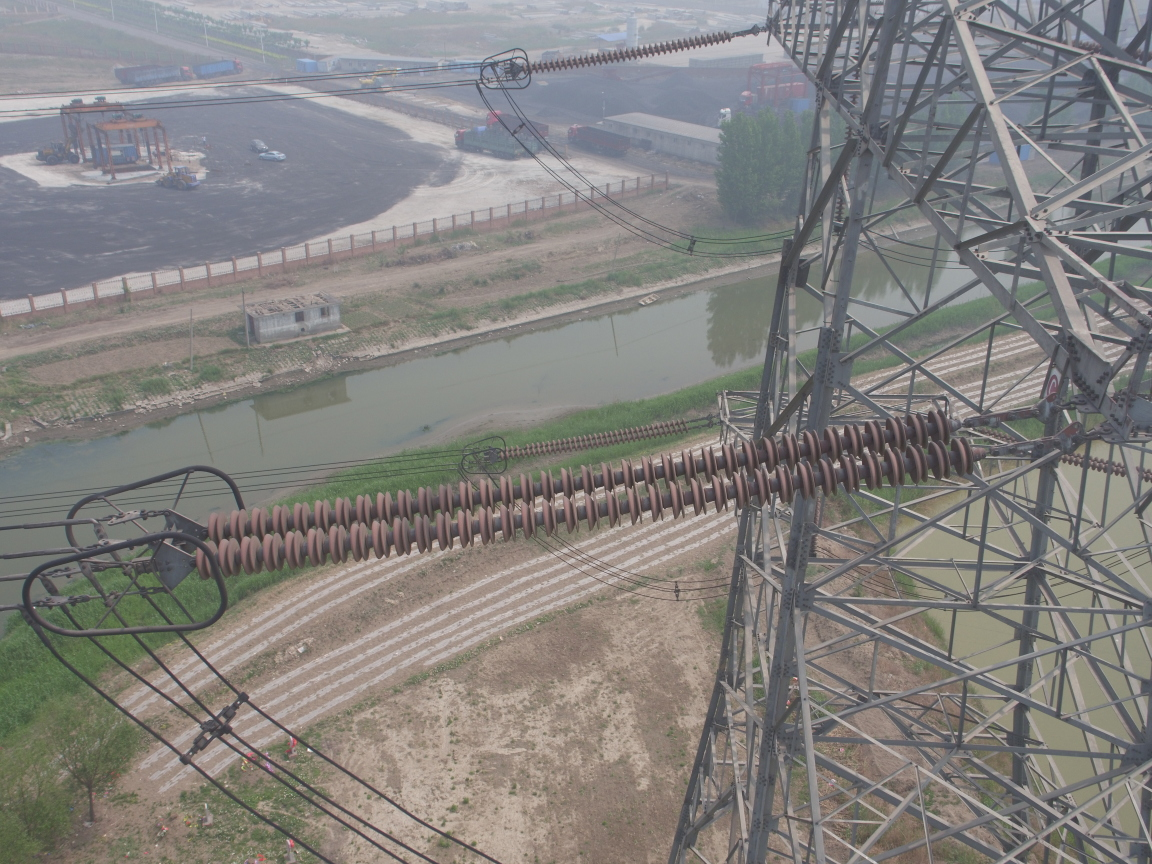insulator: (181, 403, 1008, 585), (515, 27, 745, 76)
